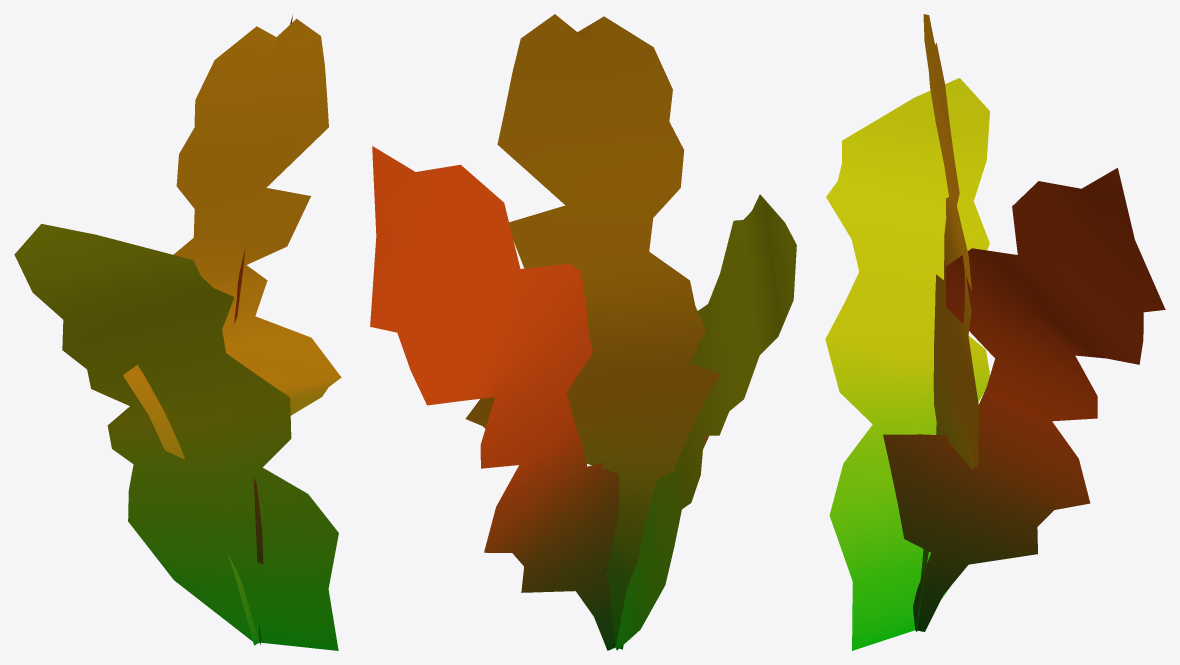
Rendered from Seaweed1.fbx.
3 views of the same model, side by side, from view 1: azimuth 30°, elevation 25°; view 2: azimuth 150°, elevation 25°; view 3: azimuth 270°, elevation 25° (orthographic). The views are drawn at different scales.
Visible parts, largest first — view 1: _af88_Var3_LOD0; view 2: _af88_Var3_LOD0; view 3: _af88_Var3_LOD0.
Part boxes in pixels (bbox=[...]): _af88_Var3_LOD0: bbox=[14, 14, 341, 650]; _af88_Var3_LOD0: bbox=[370, 14, 796, 650]; _af88_Var3_LOD0: bbox=[825, 14, 1165, 650].
Size of the model in its own units: 18.67 by 31.91 by 15.93.
